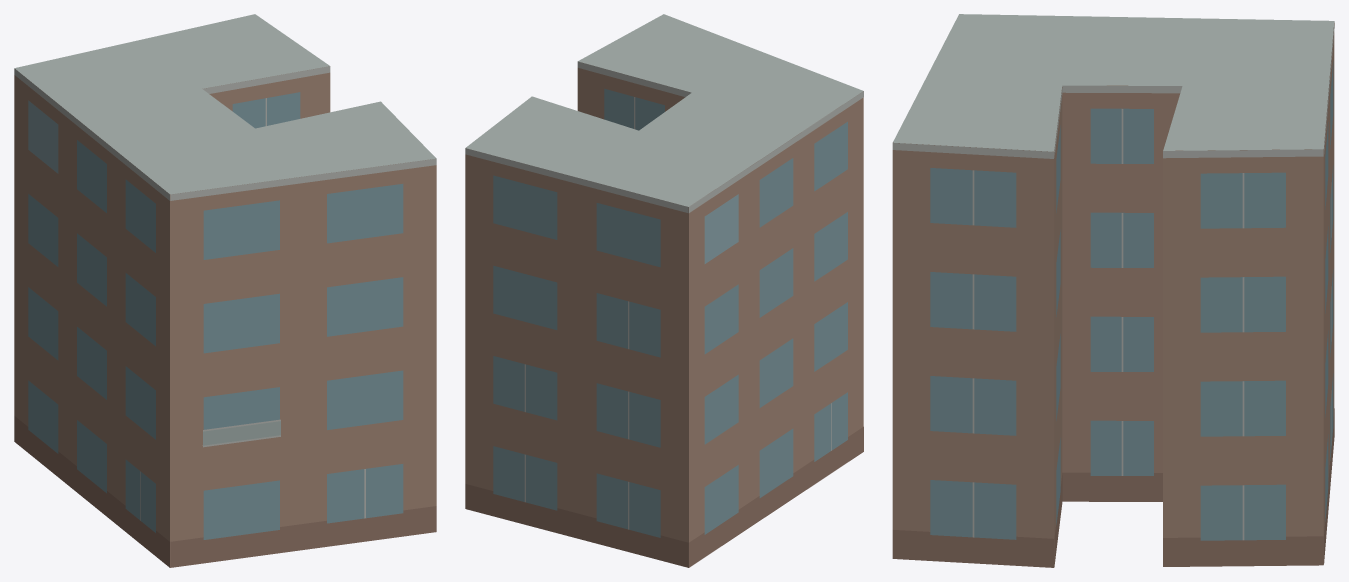
Rendered from survey-upis-32471860.glb.
The picture shows the model from 3 angles, left to right: view 1: azimuth 30°, elevation 25°; view 2: azimuth 150°, elevation 25°; view 3: azimuth 270°, elevation 25°; orthographic projection. The views are drawn at different scales.
Parts seen in each view (by area): view 1: survey-upis-32471860.tmp; view 2: survey-upis-32471860.tmp; view 3: survey-upis-32471860.tmp.
Part boxes in pixels (<box>): survey-upis-32471860.tmp: <box>14,14,436,567</box>; survey-upis-32471860.tmp: <box>465,14,863,567</box>; survey-upis-32471860.tmp: <box>892,14,1334,567</box>.
Size of the model in its own units: 9.92 by 13.95 by 13.43.
